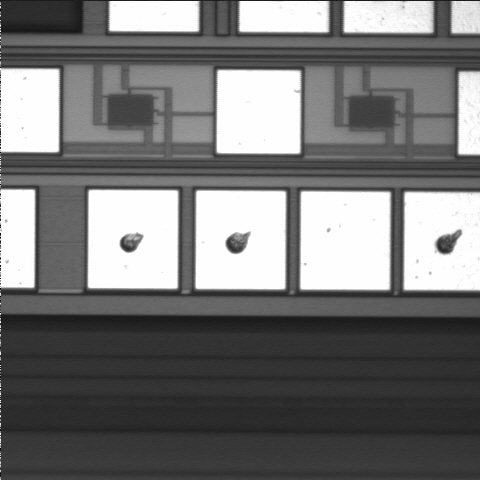pad: (88, 190, 178, 289), (300, 191, 390, 290), (196, 191, 286, 289), (217, 70, 301, 154)
